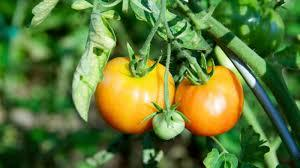Masak: (101, 52, 175, 133), (179, 64, 244, 134)
Mengkal: (152, 112, 182, 138)
